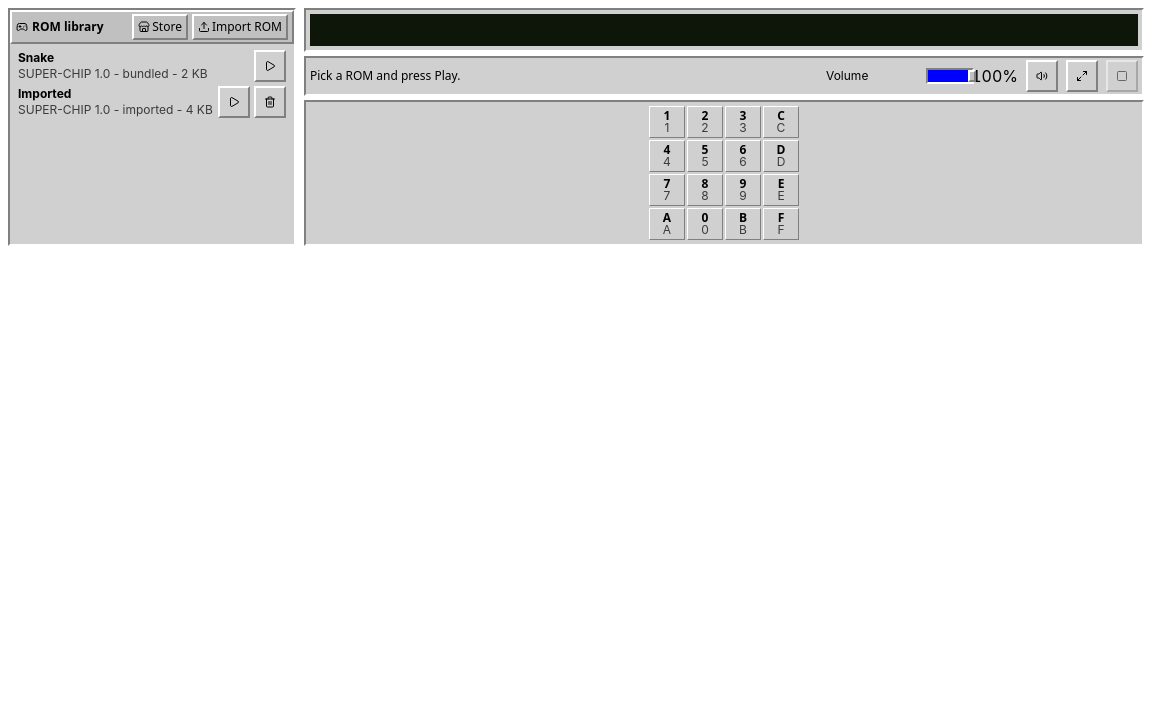
Test case: game route › opens the ROM store from the library header
This screenshot has width=1152, height=720.
Expected: the text "Snake" is shown, [18,50,54,65]
What coordinates should you click on to do the following:
click the button "Store"
I would click on:
 (160, 27)
Its box is [132,14,188,40].
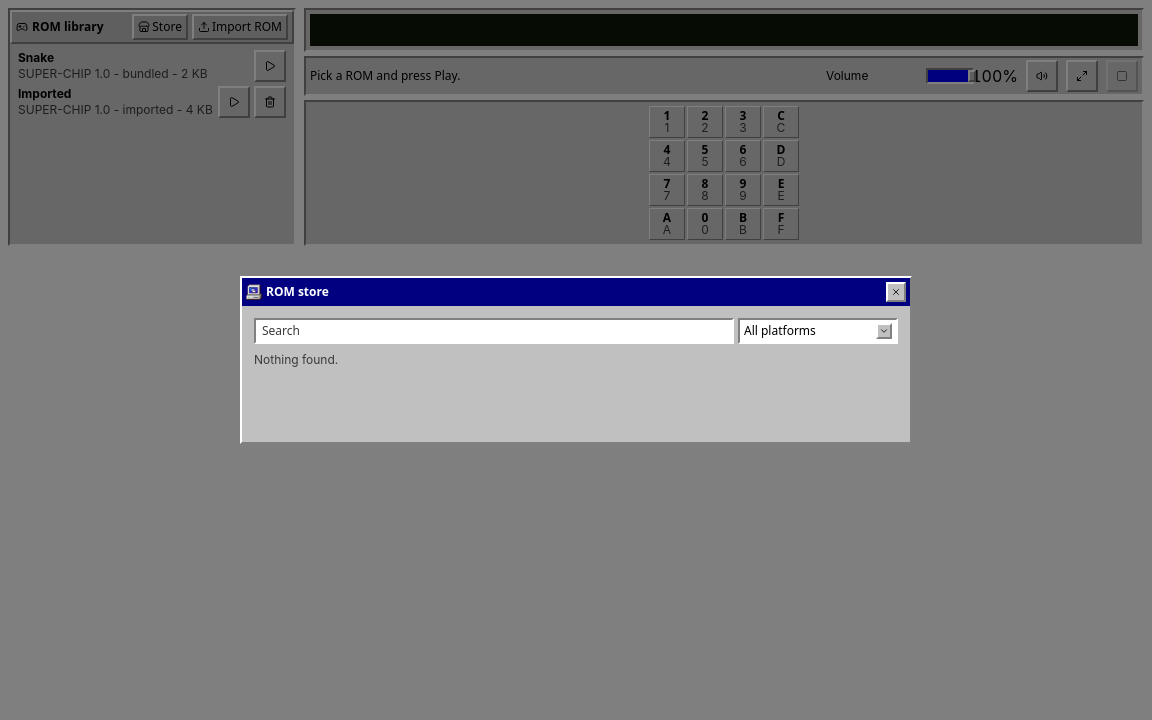
Now the heading "ROM store" is shown, box [266,283,329,301]
Now the text "Nothing found." is shown, box [254,352,338,367]
